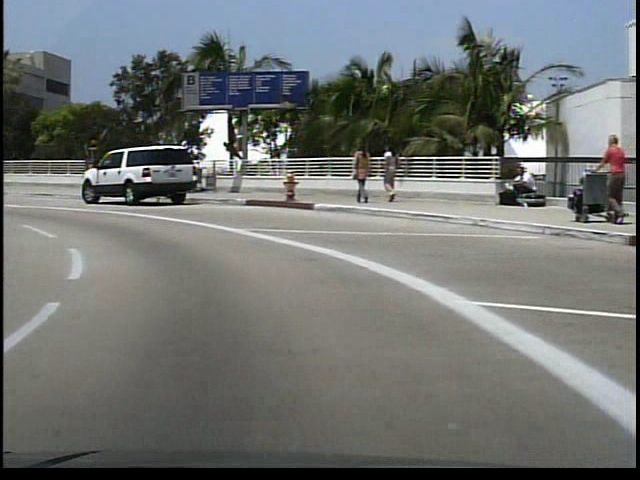person: (592, 128, 622, 229), (349, 138, 370, 209), (500, 165, 533, 208), (376, 144, 399, 204)
